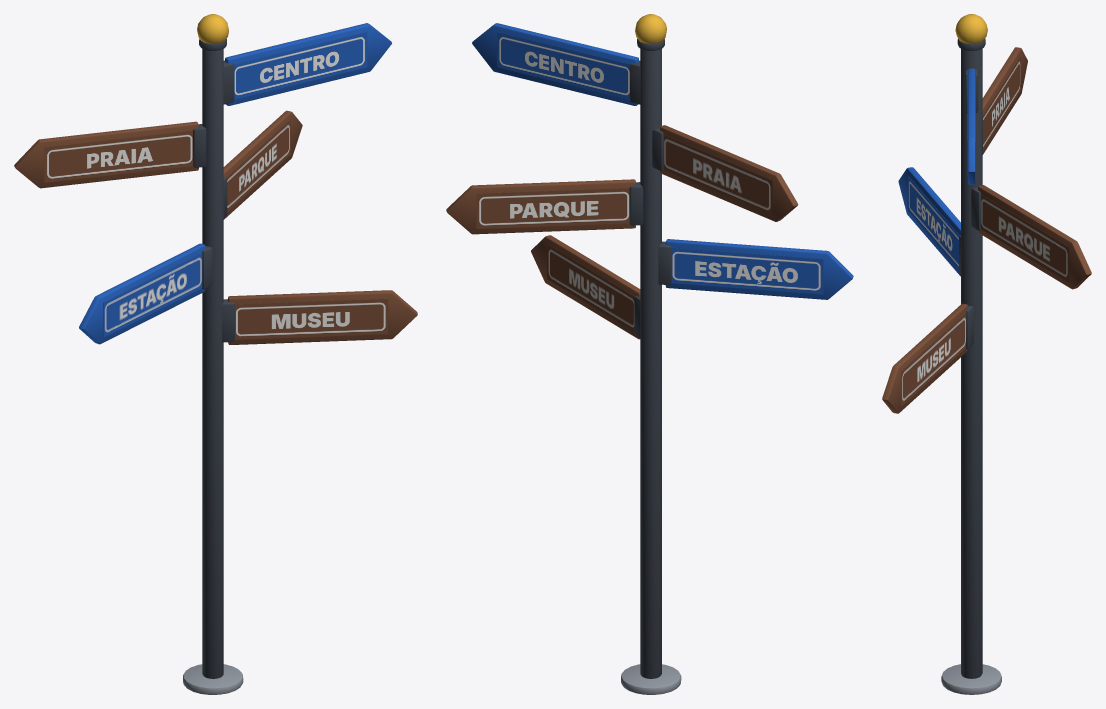
The model's file is placa_direcao_setas.glb.
3 renders of one model, left to right at view 1: azimuth 30°, elevation 25°; view 2: azimuth 150°, elevation 25°; view 3: azimuth 270°, elevation 25°, orthographic.
Parts seen in each view (by area): view 1: placa_direcao_setas; view 2: placa_direcao_setas; view 3: placa_direcao_setas.
Part boxes in pixels (box(x1,y1,x2,y2)): placa_direcao_setas: box(14, 14, 417, 694); placa_direcao_setas: box(446, 14, 853, 694); placa_direcao_setas: box(882, 14, 1091, 694).
Size of the model in its own units: 1.86 by 3.39 by 0.9663.
6 materials, 6 textured.
